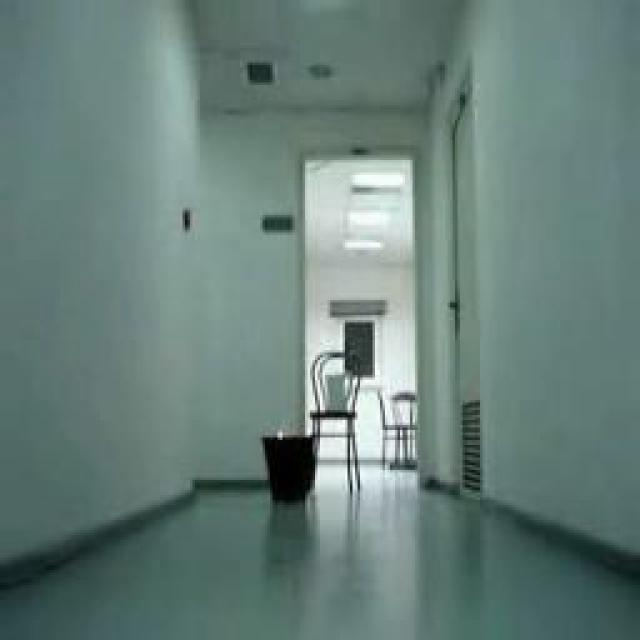Fire: (264, 426, 295, 442)
